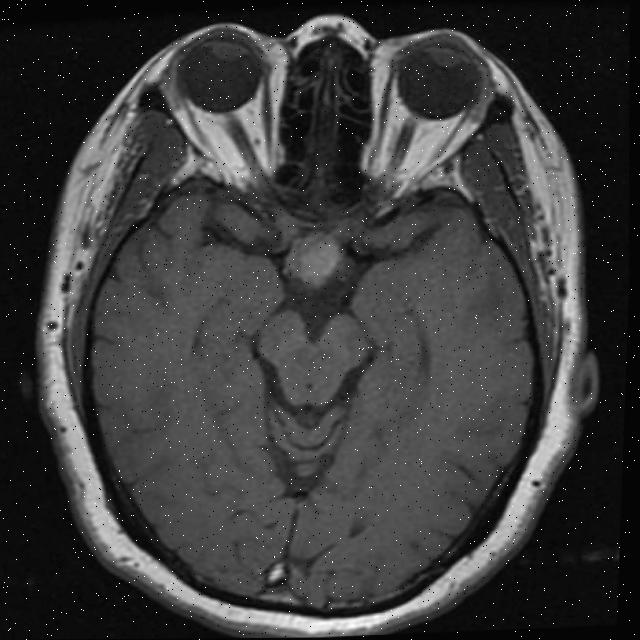Pituitary: (280, 230, 342, 288)
